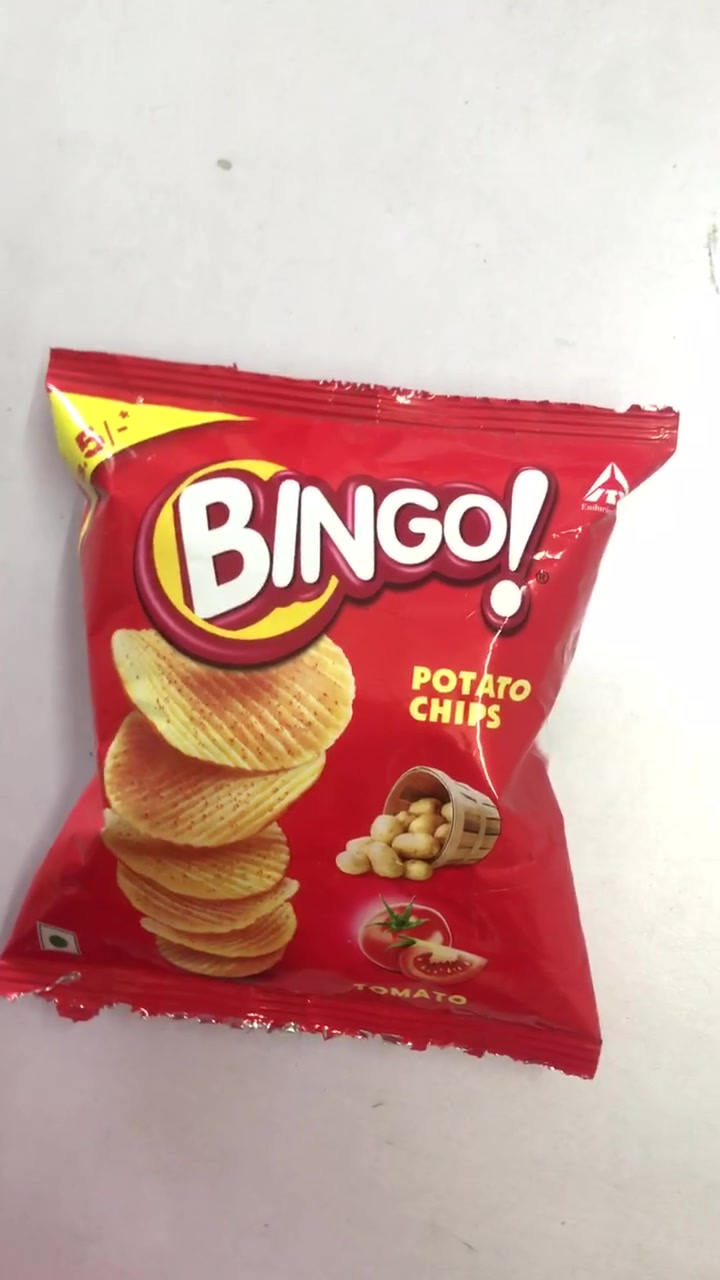Bingo: (16, 348, 683, 1078)
